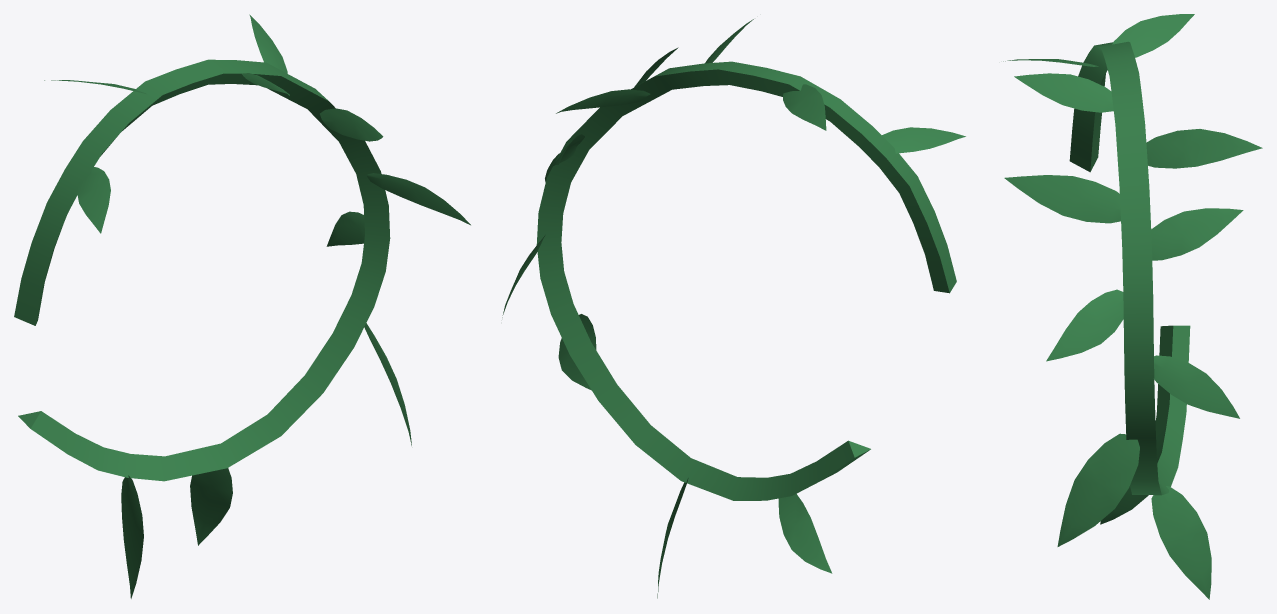
File: vine_U_scanden_loop_big.fbx
3 renders of one model, left to right at view 1: azimuth 30°, elevation 25°; view 2: azimuth 150°, elevation 25°; view 3: azimuth 270°, elevation 25°, orthographic.
Parts seen in each view (by area): view 1: vine_U_scanden_loop_big_root, vine_scanden_A_leaf_A42, vine_scanden_A_leaf_A, vine_scanden_A_leaf_A37, vine_scanden_A_leaf_A44, vine_scanden_A_leaf_A45, vine_scanden_A_leaf_A38, vine_scanden_A_leaf_A41, vine_scanden_A_leaf_A40; view 2: vine_U_scanden_loop_big_root, vine_scanden_A_leaf_A, vine_scanden_A_leaf_A44, vine_scanden_A_leaf_A43, vine_scanden_A_leaf_A41, vine_scanden_A_leaf_A40; view 3: vine_U_scanden_loop_big_root, vine_scanden_A_leaf_A40, vine_scanden_A_leaf_A42, vine_scanden_A_leaf_A45, vine_scanden_A_leaf_A41, vine_scanden_A_leaf_A46, vine_scanden_A_leaf_A37, vine_scanden_A_leaf_A38, vine_scanden_A_leaf_A39, vine_scanden_A_leaf_A43, vine_scanden_A_leaf_A.
Part boxes in pixels (box(x1,y1,x2,y2)): vine_U_scanden_loop_big_root: box(14, 59, 390, 481); vine_scanden_A_leaf_A42: box(190, 468, 232, 545); vine_scanden_A_leaf_A: box(121, 475, 143, 598); vine_scanden_A_leaf_A37: box(367, 173, 470, 225); vine_scanden_A_leaf_A44: box(77, 167, 110, 233); vine_scanden_A_leaf_A45: box(320, 108, 383, 141); vine_scanden_A_leaf_A38: box(326, 211, 364, 246); vine_scanden_A_leaf_A41: box(249, 14, 287, 73); vine_scanden_A_leaf_A40: box(364, 323, 411, 445); vine_U_scanden_loop_big_root: box(536, 61, 956, 500); vine_scanden_A_leaf_A: box(778, 494, 832, 573); vine_scanden_A_leaf_A44: box(882, 127, 965, 153); vine_scanden_A_leaf_A43: box(783, 84, 826, 130); vine_scanden_A_leaf_A41: box(556, 89, 650, 113); vine_scanden_A_leaf_A40: box(558, 314, 596, 390); vine_U_scanden_loop_big_root: box(1069, 41, 1190, 495); vine_scanden_A_leaf_A40: box(1057, 433, 1139, 546); vine_scanden_A_leaf_A42: box(1151, 486, 1211, 599); vine_scanden_A_leaf_A45: box(1004, 175, 1120, 223); vine_scanden_A_leaf_A41: box(1146, 129, 1262, 168); vine_scanden_A_leaf_A46: box(1151, 208, 1243, 260); vine_scanden_A_leaf_A37: box(1046, 289, 1123, 361); vine_scanden_A_leaf_A38: box(1153, 355, 1239, 418); vine_scanden_A_leaf_A39: box(1014, 73, 1113, 112); vine_scanden_A_leaf_A43: box(1112, 14, 1194, 57); vine_scanden_A_leaf_A: box(1100, 486, 1148, 524).
Size of the model in its own units: 63.07 by 73.44 by 34.16.
